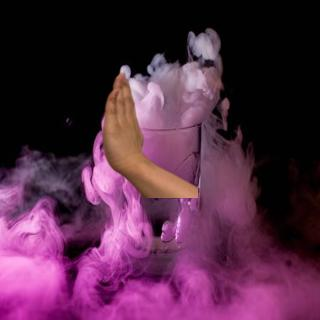RIGHT: (95, 67, 150, 178)
